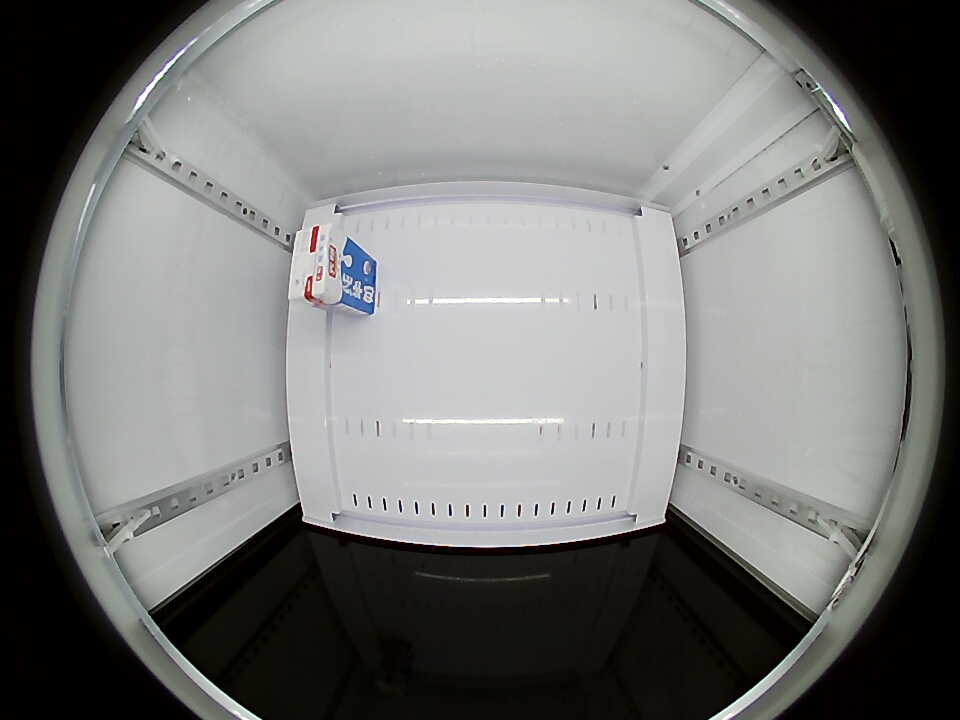niunai: (289, 217, 351, 308)
